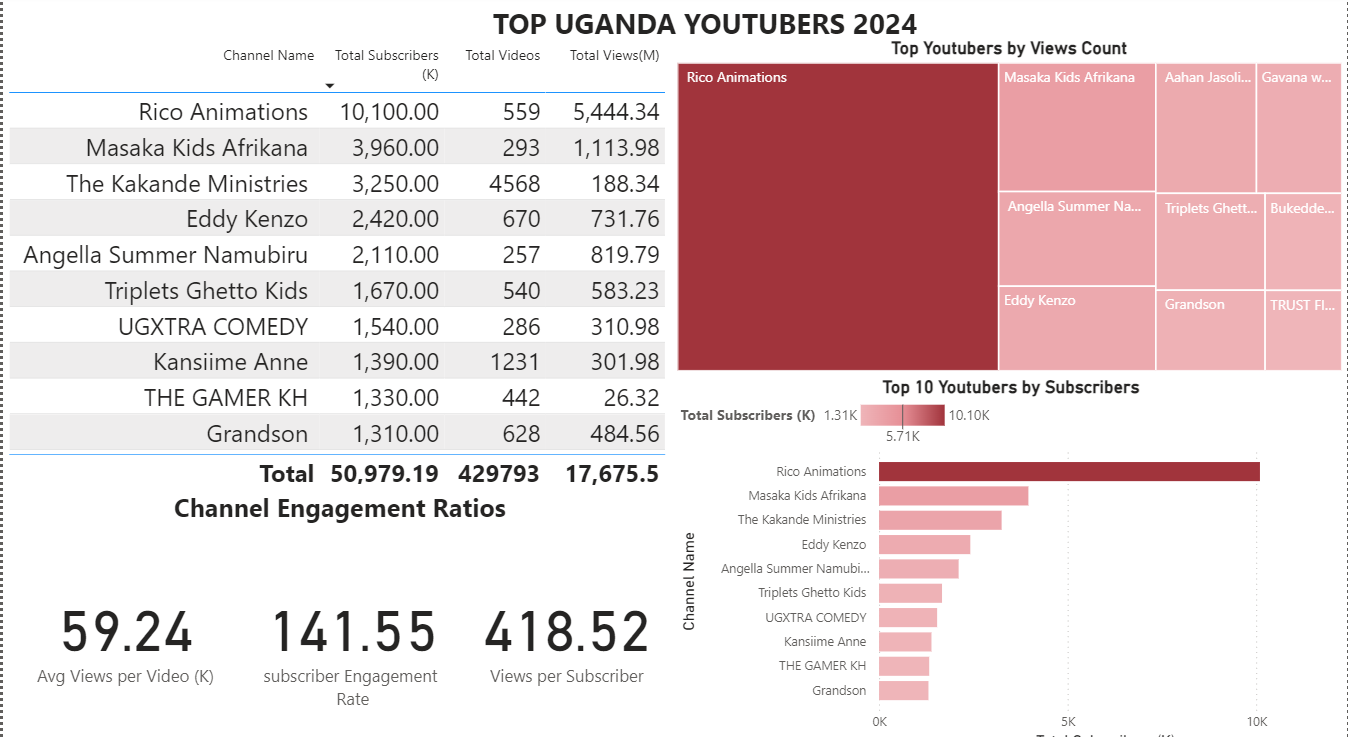

What the dashboard file says about the page in this screenshot:
{"tool":"powerbi","page":{"name":"Page 1","canvas":[1280,720],"ordinal":0},"visuals":[{"type":"textbox","box":[261.9,0,814.3,77.2],"z":0},{"type":"tableEx","fields":{"Values":["top_ug_youtubers_2024.Username","top_ug_youtubers_2024.Total Subscriber (M)","top_ug_youtubers_2024.Total Videos","top_ug_youtubers_2024.Total Views(B)"]},"box":[0,38,653.3,434.1],"z":1000},{"type":"card","fields":{"Values":["top_ug_youtubers_2024.Avg Views per Video (M)"]},"box":[0,492.5,232.5,227.5],"z":2000},{"type":"card","fields":{"Values":["top_ug_youtubers_2024.subscriber Engagement Rate"]},"box":[232.5,492.5,200,227.5],"z":3000},{"type":"card","fields":{"Values":["top_ug_youtubers_2024.Views per Subscriber"]},"box":[432.5,492.5,207.5,227.5],"z":4000},{"type":"treemap","title":"Top Youtubers by Views Count","fields":{"Group":["top_ug_youtubers_2024.Username"],"Values":["top_ug_youtubers_2024.Total Views(B)"]},"box":[637.5,37.5,642.5,322.5],"z":5000},{"type":"clusteredBarChart","title":"Top 10 Youtubers by Subscribers","fields":{"Category":["top_ug_youtubers_2024.Username"],"Y":["top_ug_youtubers_2024.Total Subscriber (M)"]},"box":[640,360,640,360],"z":6000},{"type":"textbox","box":[137.5,462.5,367.5,60],"z":7000}]}

Visuals, with their boxes in screenshot pixels (x1, y1, x2, y2), scaled from the page's 1280x720 canvas onto the 1348x737 screenshot:
textbox: {"x1": 276, "y1": 0, "x2": 1133, "y2": 79}
tableEx - top_ug_youtubers_2024.Username x top_ug_youtubers_2024.Total Subscriber (M): {"x1": 0, "y1": 39, "x2": 688, "y2": 483}
card - top_ug_youtubers_2024.Avg Views per Video (M): {"x1": 0, "y1": 504, "x2": 245, "y2": 736}
card - top_ug_youtubers_2024.subscriber Engagement Rate: {"x1": 245, "y1": 504, "x2": 455, "y2": 736}
card - top_ug_youtubers_2024.Views per Subscriber: {"x1": 455, "y1": 504, "x2": 674, "y2": 736}
"Top Youtubers by Views Count" treemap: {"x1": 671, "y1": 38, "x2": 1347, "y2": 368}
"Top 10 Youtubers by Subscribers" clusteredBarChart: {"x1": 674, "y1": 368, "x2": 1347, "y2": 736}
textbox: {"x1": 145, "y1": 473, "x2": 532, "y2": 535}
